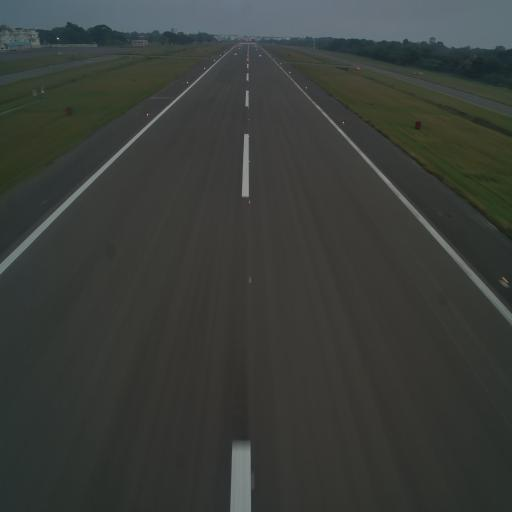on: (498, 266, 512, 293), (247, 273, 256, 287), (144, 107, 152, 118), (246, 193, 252, 207), (340, 116, 347, 128), (247, 153, 253, 164)
